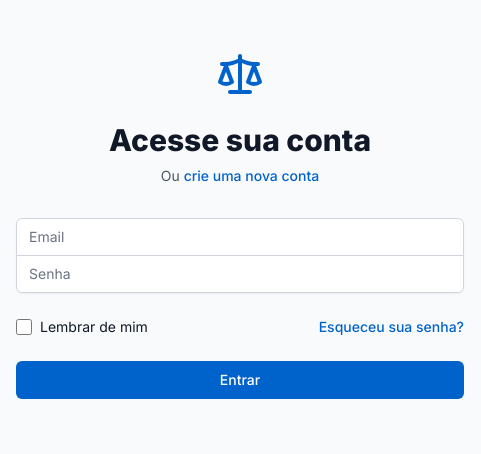
Test: LoginPage › should handle network errors gracefully
Type "test@example.com" into the field with placeholder "Email" at (240, 236), box [16, 218, 464, 256]
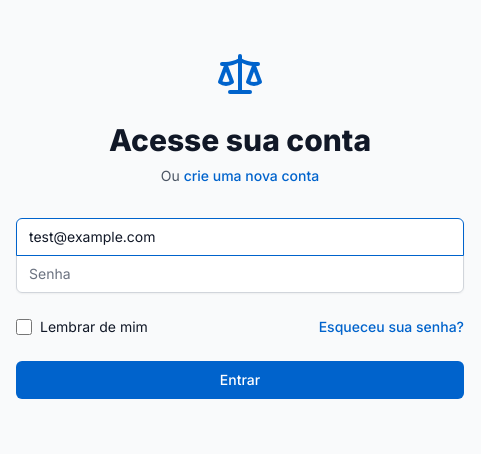
Type "password123" into the password field with placeholder "Senha" at (240, 274), box [16, 254, 464, 292]
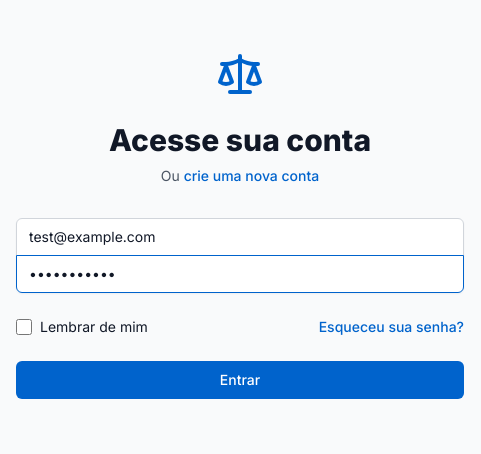
Click the button "Entrar" at (240, 380), box [16, 360, 464, 398]
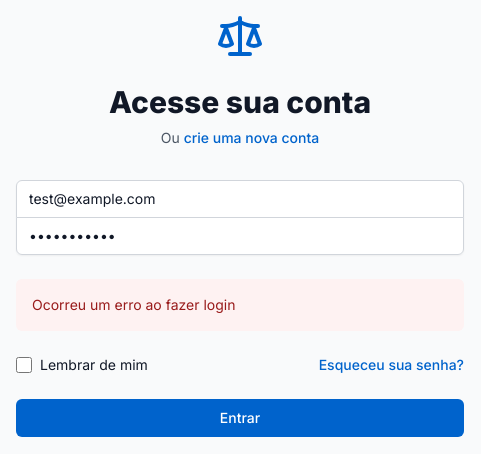
Check: the text "Ocorreu um erro ao fazer login" is shown, box [32, 296, 236, 312]
